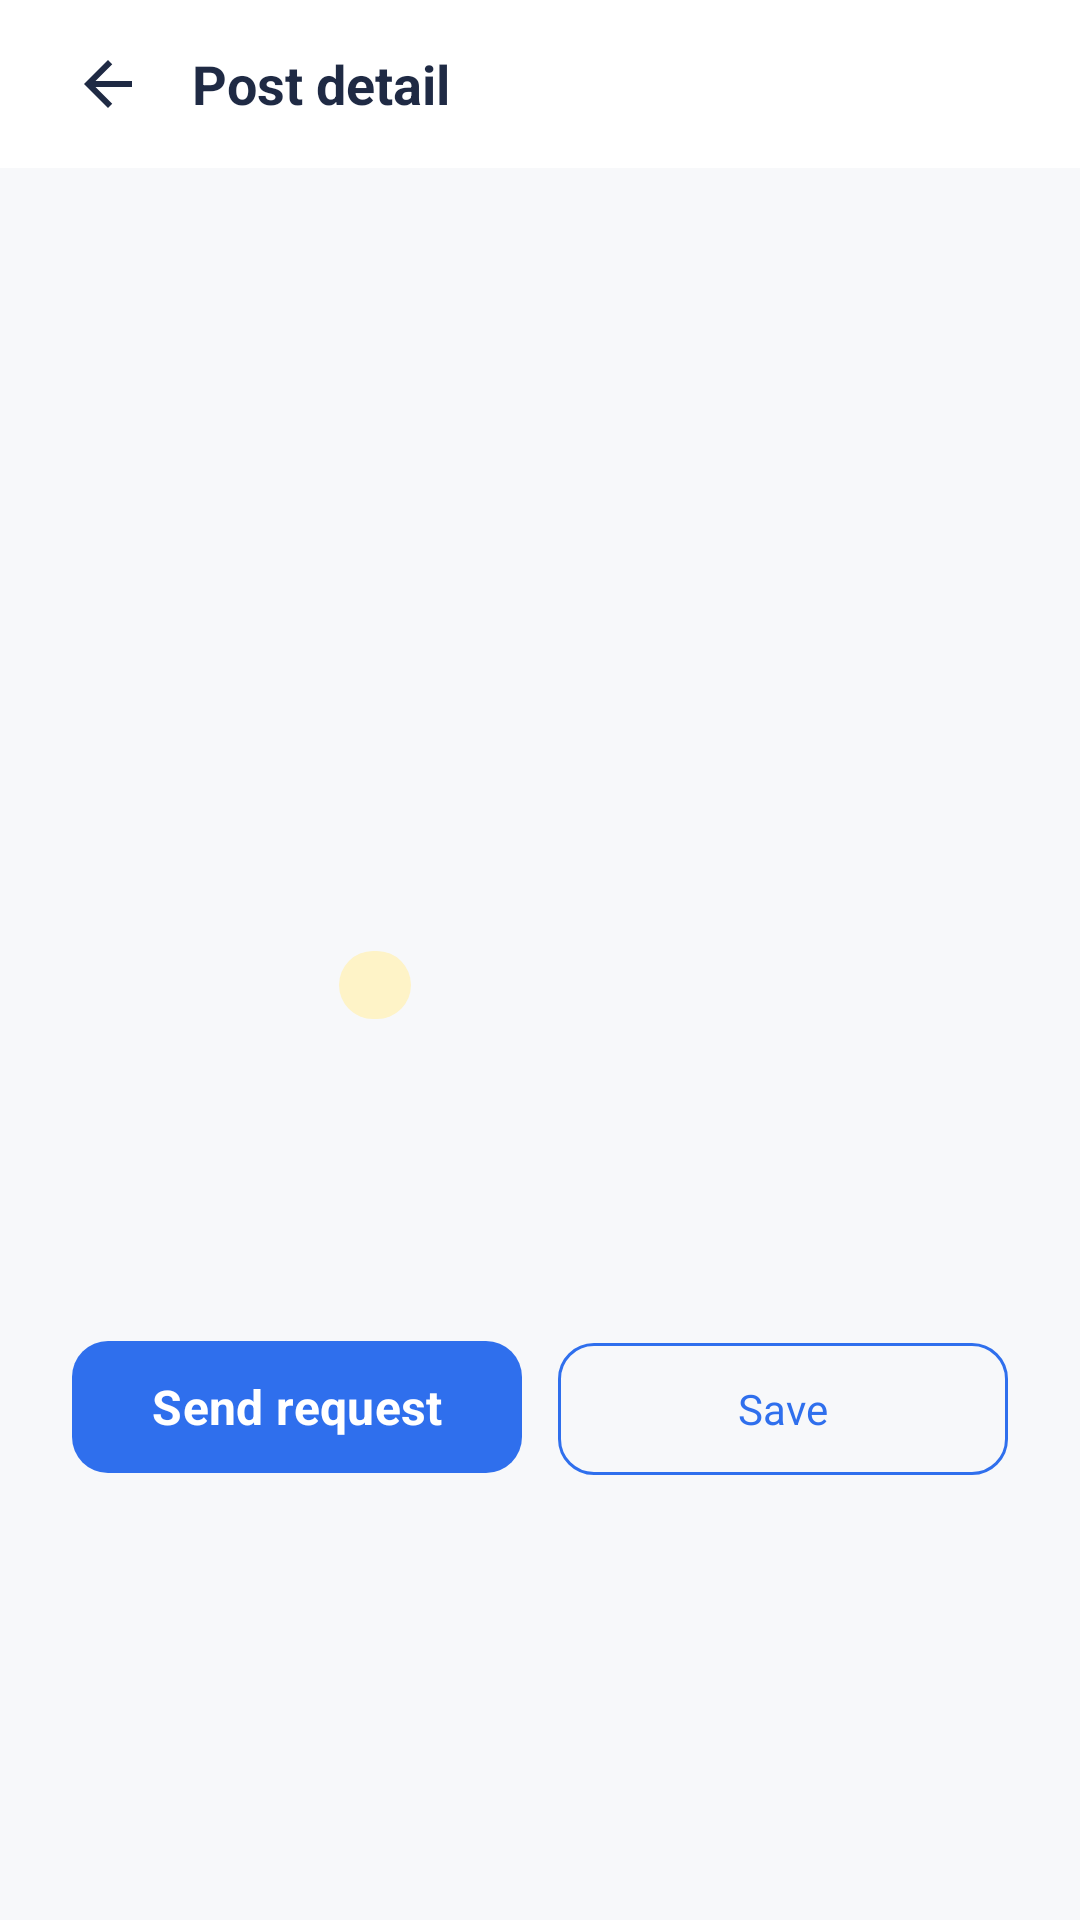

Icon click points for this 1080px x 1920px phone screenshot, format (x=x, y=y):
Back: (x=108, y=84)
